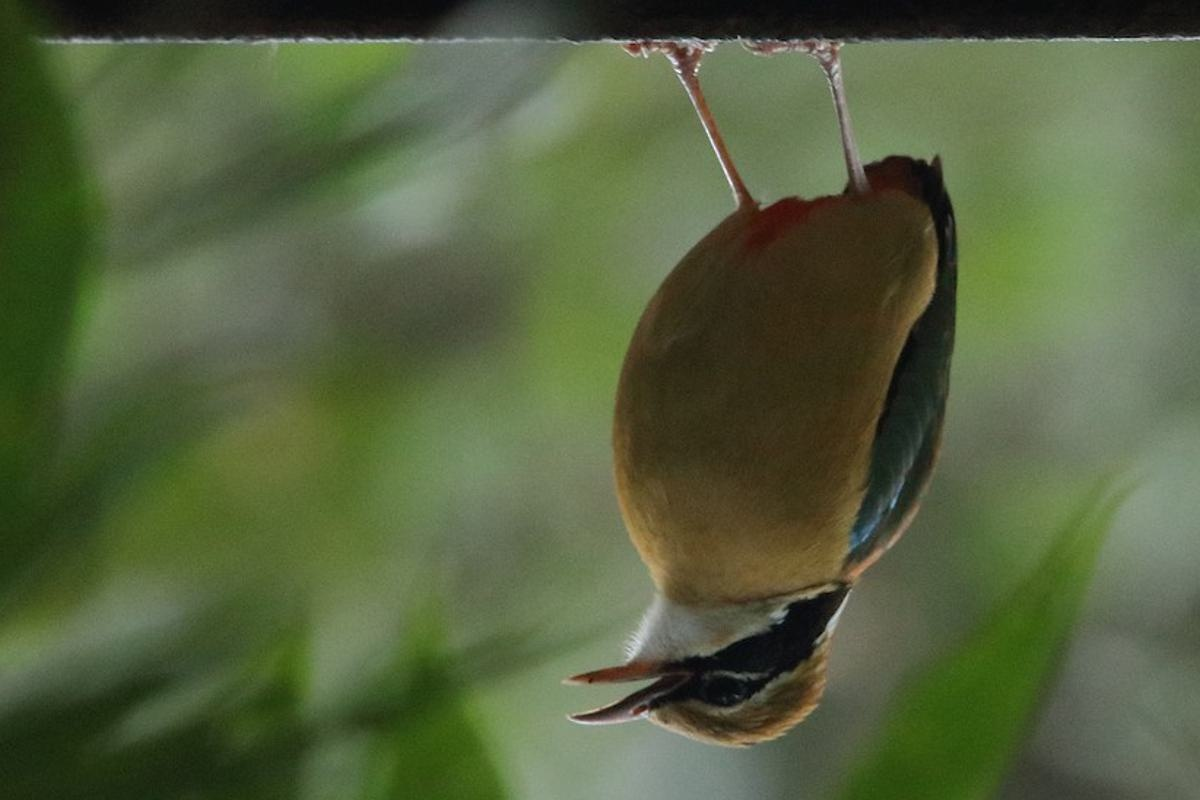pitta: (543, 44, 975, 756)
